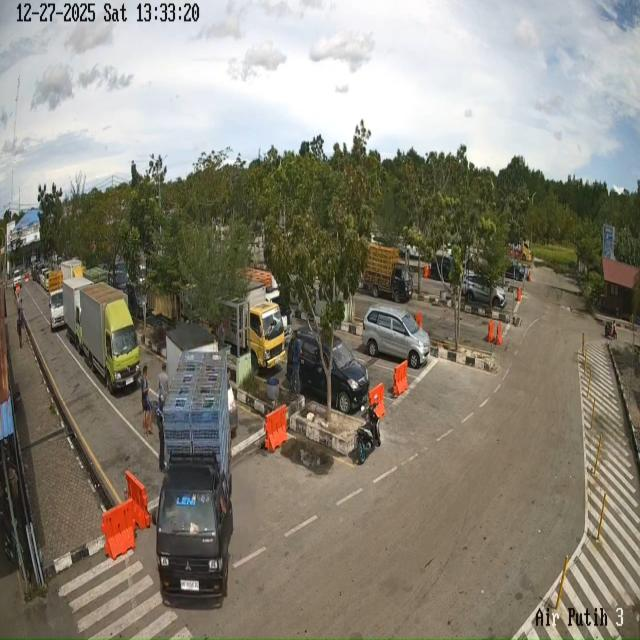Golongan IVA: (286, 328, 370, 413), (362, 305, 430, 369), (462, 272, 507, 308)
Golongan IVB: (155, 419, 237, 602), (362, 243, 413, 303), (48, 270, 64, 332)
Golongan VB: (80, 282, 140, 393), (220, 281, 286, 370), (62, 277, 93, 352)
